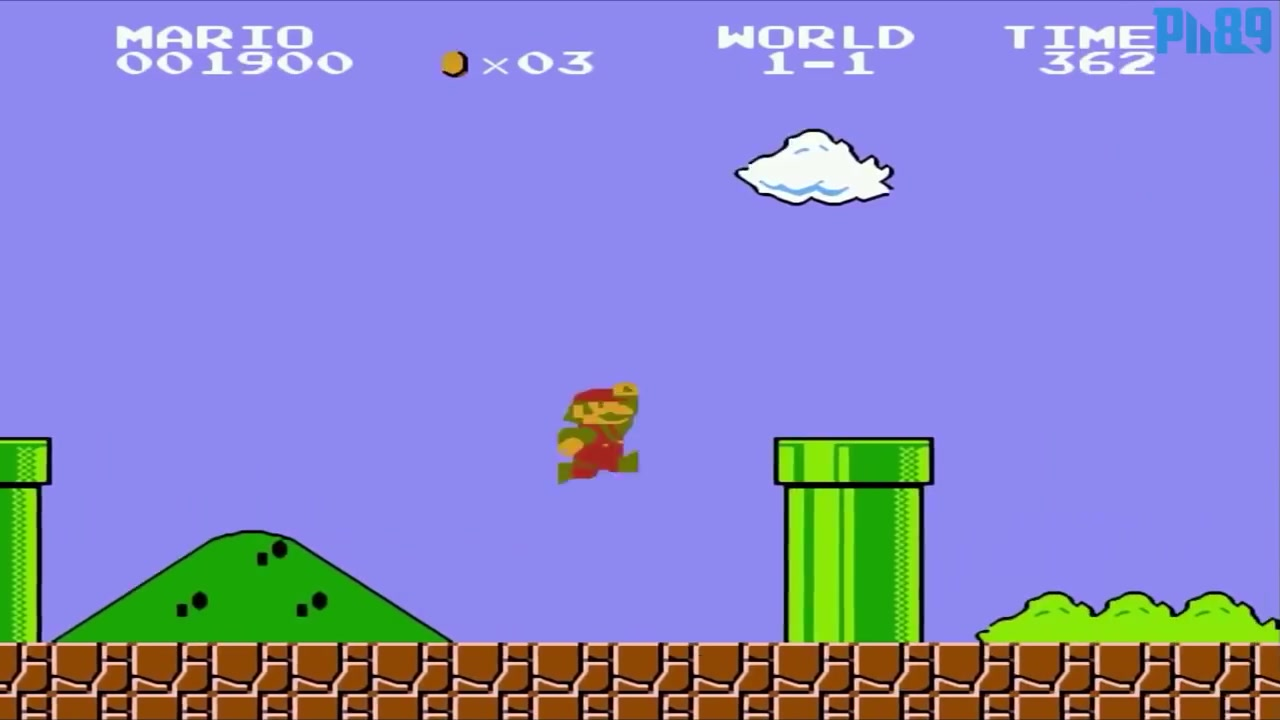mario: (545, 370, 644, 496)
